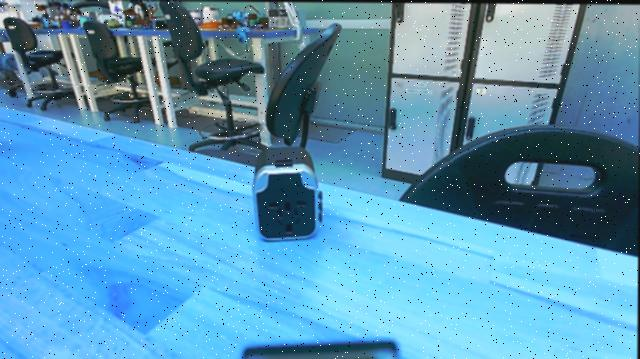adapter: (249, 142, 325, 245)
